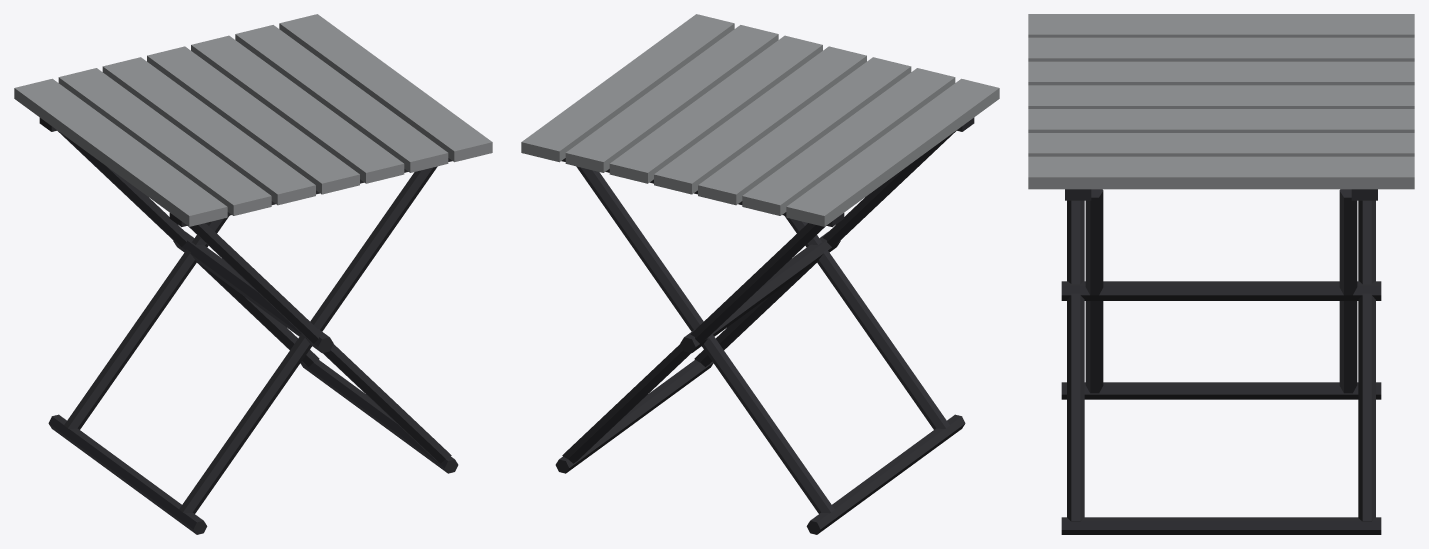
Rendered from FN_Table_Bistro.glb.
3 views of the same model, side by side, from view 1: azimuth 30°, elevation 25°; view 2: azimuth 150°, elevation 25°; view 3: azimuth 270°, elevation 25° (orthographic). The views are drawn at different scales.
Visible parts, largest first — view 1: FN_Table_Bistro; view 2: FN_Table_Bistro; view 3: FN_Table_Bistro.
Part boxes in pixels (bbox=[...]): FN_Table_Bistro: bbox=[14, 14, 492, 534]; FN_Table_Bistro: bbox=[521, 14, 999, 534]; FN_Table_Bistro: bbox=[1028, 14, 1414, 534].
Size of the model in its own units: 0.7 by 0.74 by 0.7.
1 material, 1 textured.
